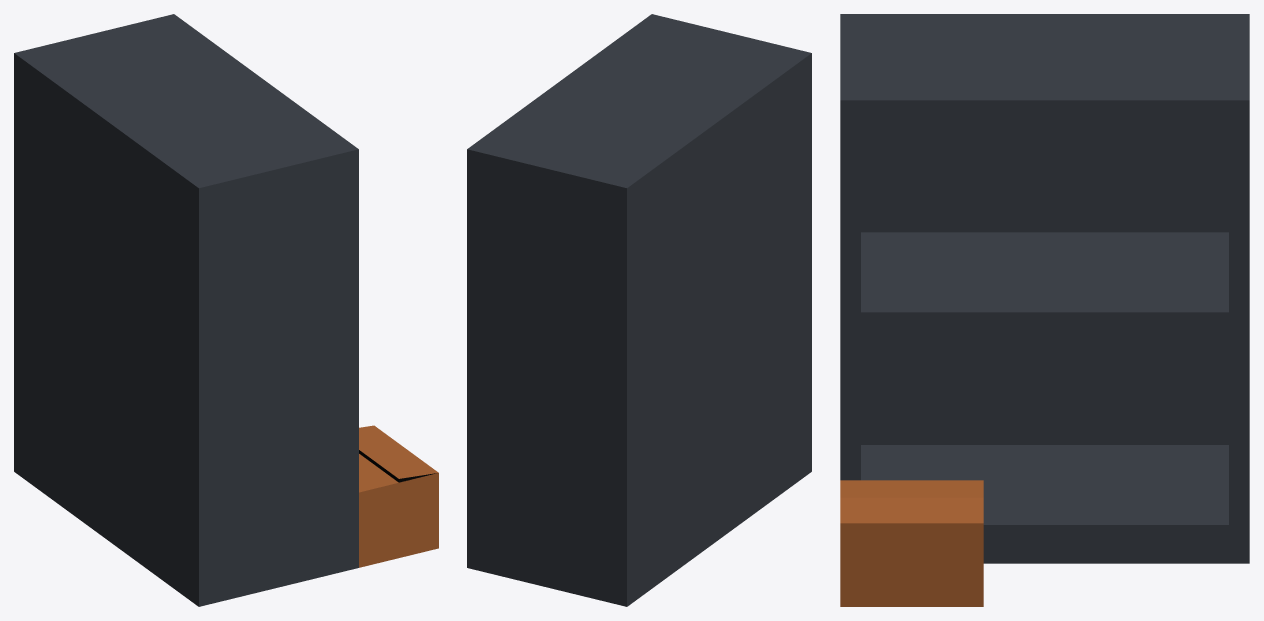
Rendered from Cosas4.fbx.
3 views of the same model, side by side, from view 1: azimuth 30°, elevation 25°; view 2: azimuth 150°, elevation 25°; view 3: azimuth 270°, elevation 25° (orthographic). The views are drawn at different scales.
Visible parts, largest first — view 1: Biblioteque, Caja, Caja2; view 2: Biblioteque; view 3: Biblioteque, Caja, Caja2.
Boxes of the visible parts, x1,y1,x2,y2 form: Biblioteque: [14, 14, 358, 606]; Caja: [359, 425, 438, 567]; Caja2: [359, 454, 438, 547]; Biblioteque: [467, 14, 811, 606]; Biblioteque: [840, 14, 1249, 563]; Caja: [840, 497, 983, 606]; Caja2: [840, 480, 983, 497].
Bounding box in the file's own units: 150 × 250 × 200.
Materials: 1 (1 with a texture image).
